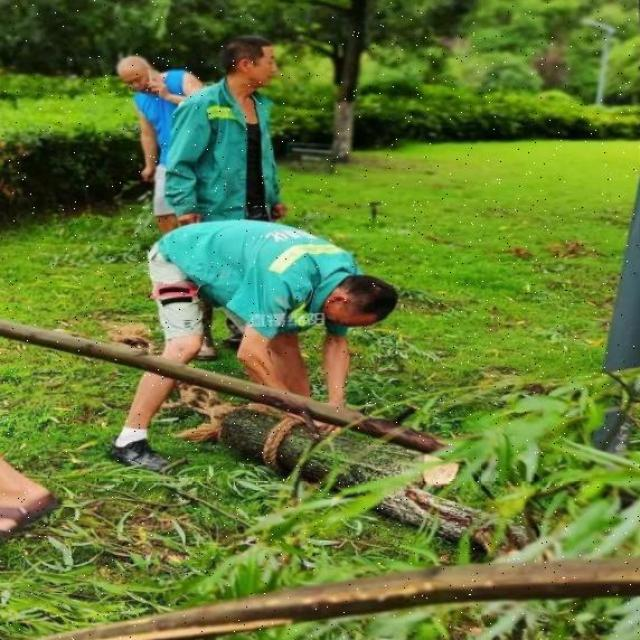fallen_object: (204, 406, 482, 538)
